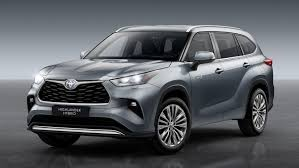Toyota: (29, 27, 268, 134)
